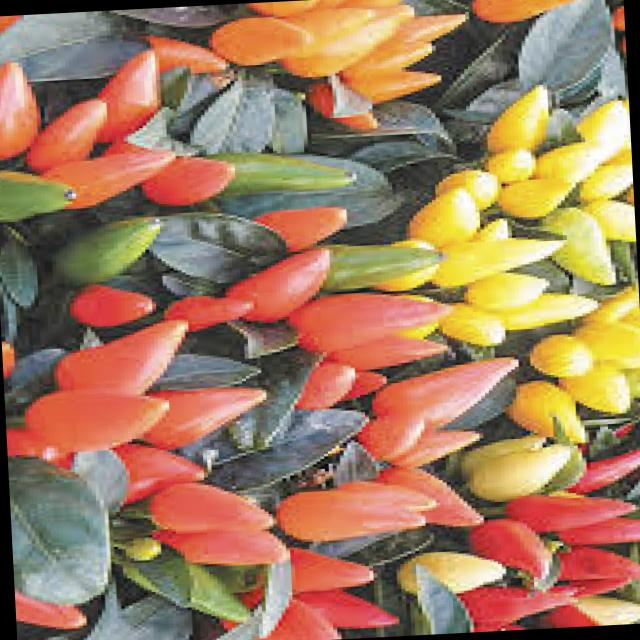hot pepper: (409, 68, 640, 357), (0, 10, 272, 240), (187, 197, 466, 421), (81, 366, 316, 622), (288, 347, 544, 555), (416, 422, 640, 635), (198, 0, 489, 128), (470, 275, 640, 490), (192, 548, 414, 640), (36, 315, 215, 404), (198, 139, 378, 220), (38, 205, 180, 288), (14, 376, 172, 450), (11, 531, 98, 640), (451, 0, 617, 43), (65, 268, 175, 322), (0, 324, 46, 388)
